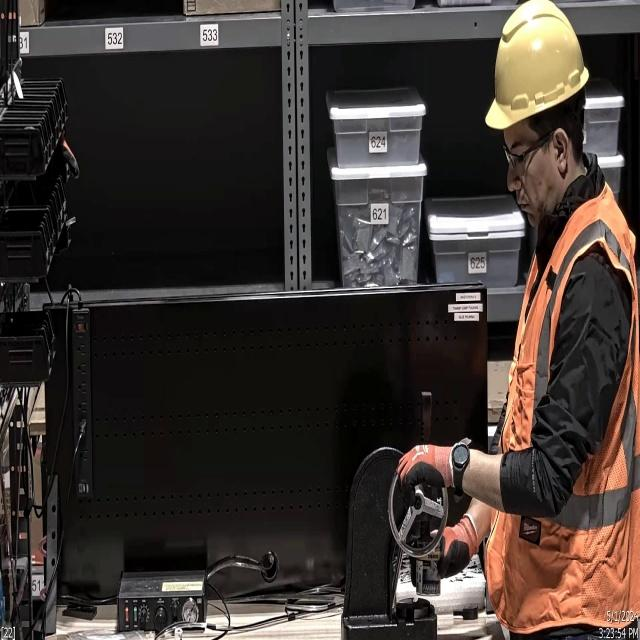gloves: (408, 506, 482, 600), (392, 438, 468, 503)
